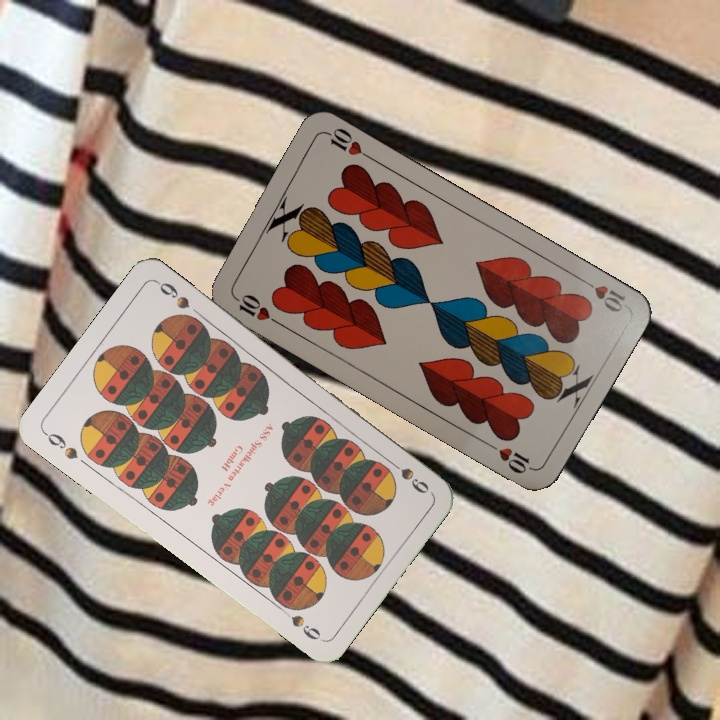H10: (575, 273, 628, 315), (229, 290, 283, 328)
S9: (382, 454, 432, 497), (39, 427, 81, 463)
